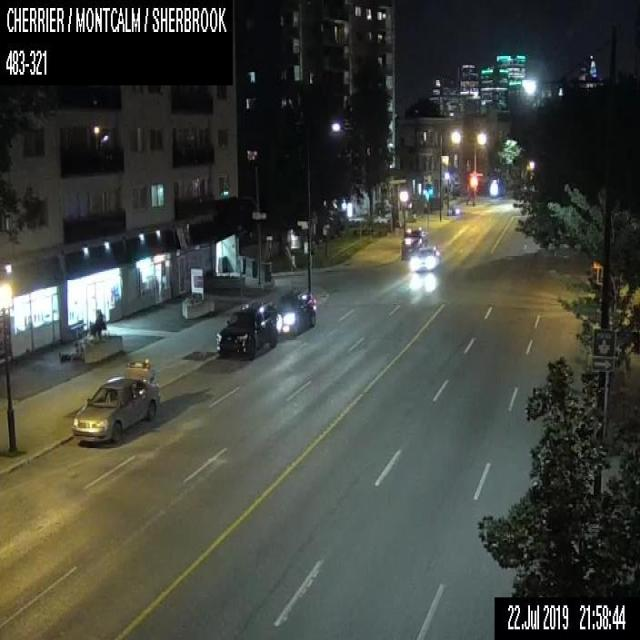vehicle: (69, 372, 159, 441), (215, 300, 275, 359), (273, 289, 316, 337), (400, 227, 428, 258), (408, 246, 439, 270)
